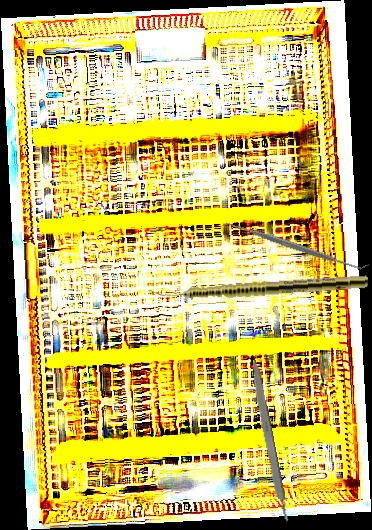Handpiece: (146, 272, 369, 304)
Scalpel Handle: (246, 354, 291, 525)
Spatula Surgical: (219, 213, 371, 279)
